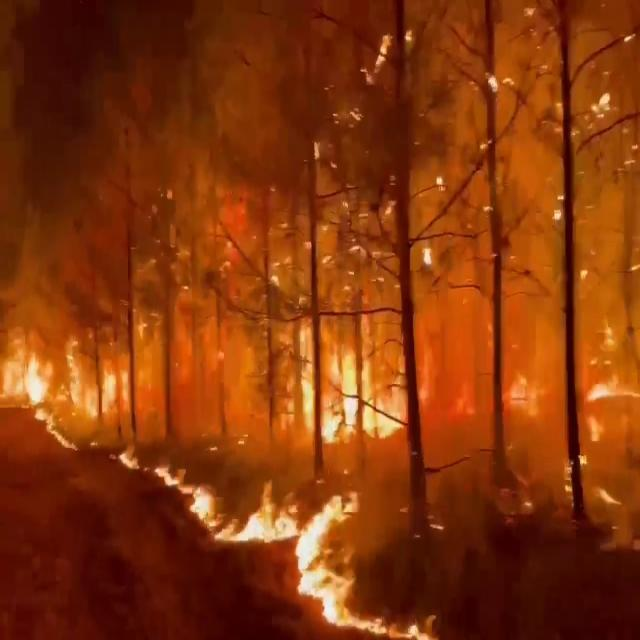Fire: (246, 477, 371, 628), (560, 306, 640, 504), (289, 311, 396, 453), (153, 452, 233, 542), (1, 336, 58, 419), (71, 356, 131, 422)
Smoke: (0, 0, 640, 378)
